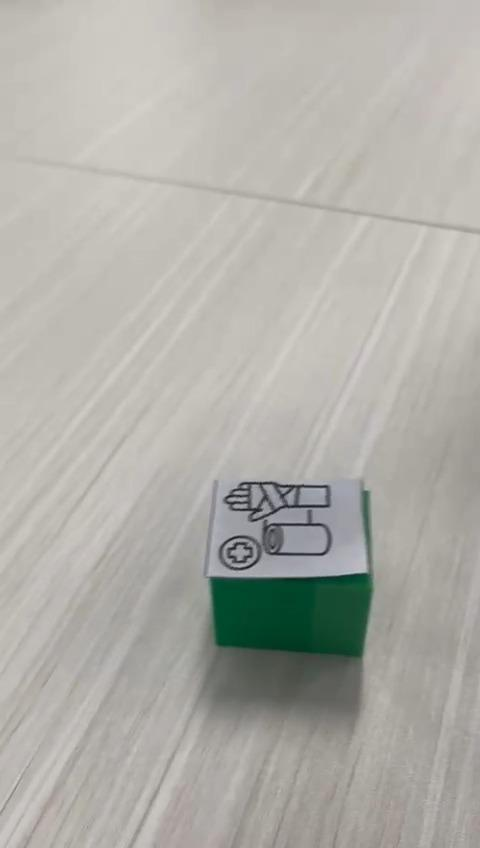Bandages: (205, 477, 375, 655)
